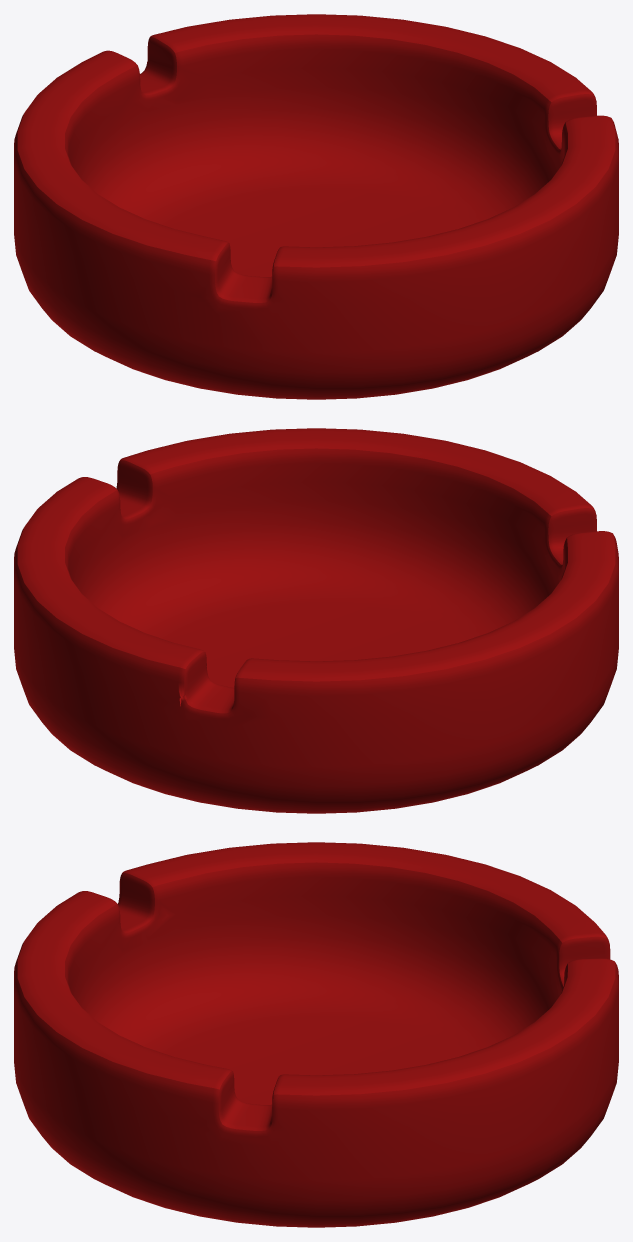
File: Ashtray.fbx
3 renders of one model, top to bottom at view 1: azimuth 30°, elevation 25°; view 2: azimuth 150°, elevation 25°; view 3: azimuth 270°, elevation 25°, orthographic.
Visible parts, largest first — view 1: Cylinder001; view 2: Cylinder001; view 3: Cylinder001.
Boxes of the visible parts, x1,y1,x2,y2 form: Cylinder001: (14,14,618,399); Cylinder001: (14,428,618,813); Cylinder001: (14,842,618,1227).
Size of the model in its own units: 15.12 by 4.29 by 15.08.
